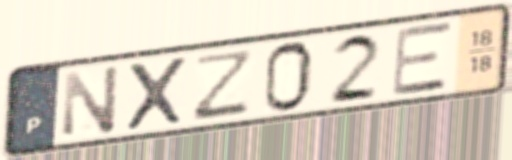0: (261, 38, 318, 114)
2: (323, 32, 386, 104)
E: (390, 19, 454, 99)
N: (61, 61, 123, 139)
X: (122, 53, 190, 134)
Z: (188, 46, 259, 123)
